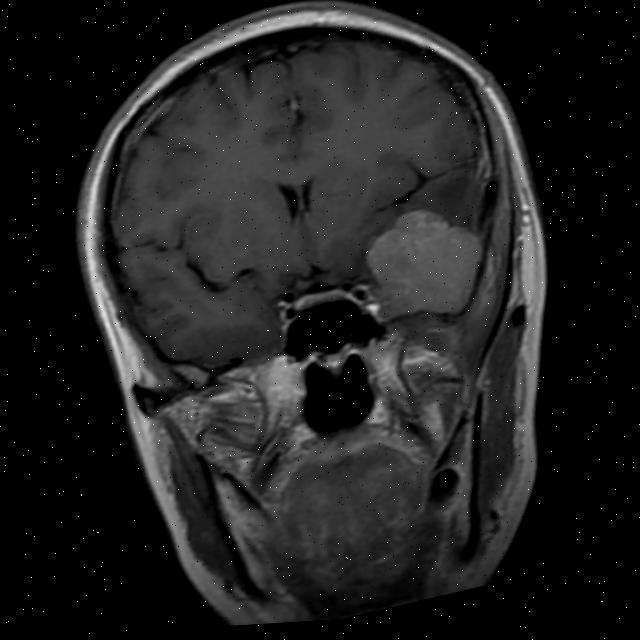Meningioma: (355, 189, 500, 338)
